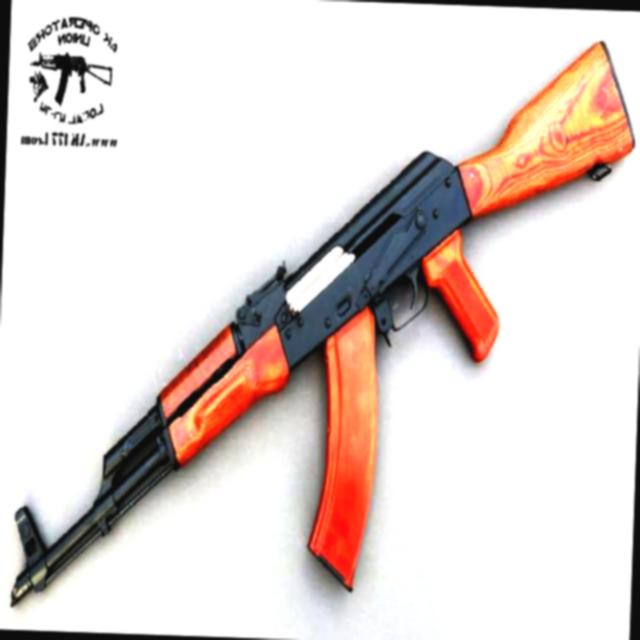ak: (5, 17, 640, 631)
